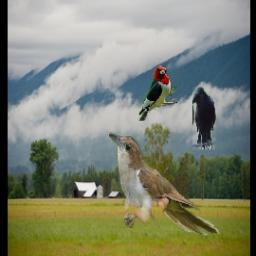Crow: (192, 87, 215, 151)
Cuckoo: (109, 131, 221, 235)
Woodpecker: (137, 65, 177, 121)
